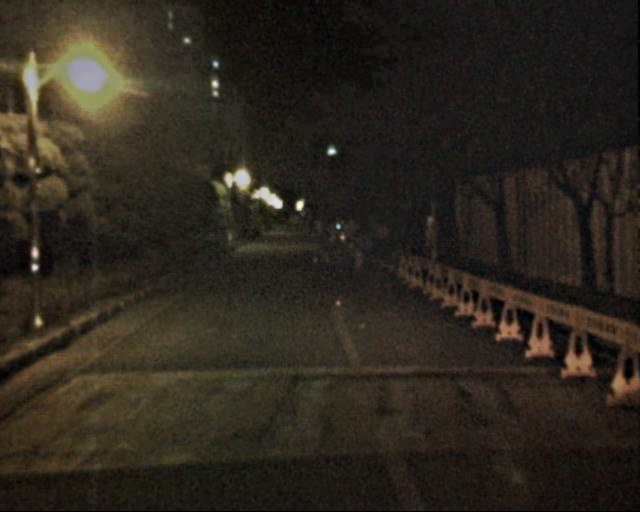person: (370, 226, 395, 286), (361, 217, 383, 271), (350, 230, 372, 283), (308, 218, 328, 266), (324, 219, 344, 267), (341, 217, 361, 265)
